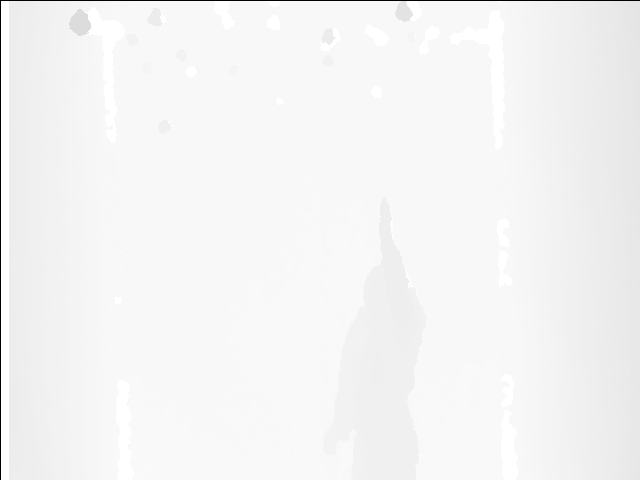hand: (375, 199, 399, 238)
